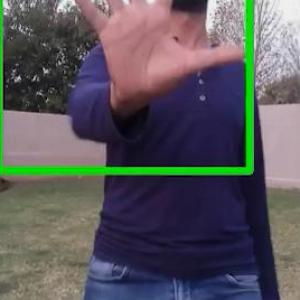follow_hand: (62, 0, 246, 114)
